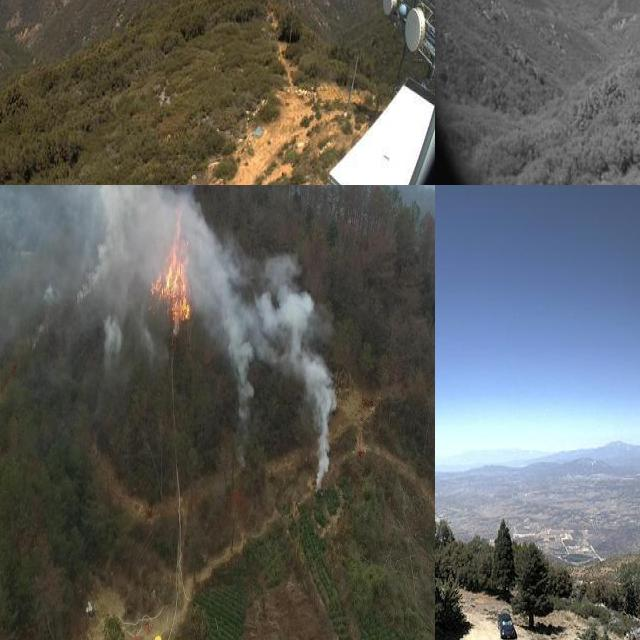fire: (111, 185, 225, 356)
smoke: (0, 185, 334, 396)
